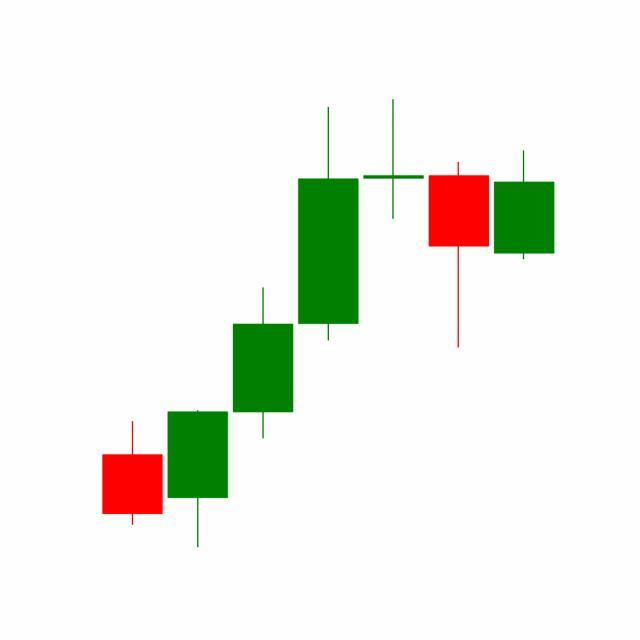Evening Doji Star: (295, 100, 492, 353)
